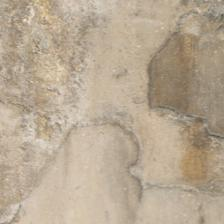Crack: (64, 55, 141, 125), (75, 72, 147, 141), (55, 81, 83, 144)
